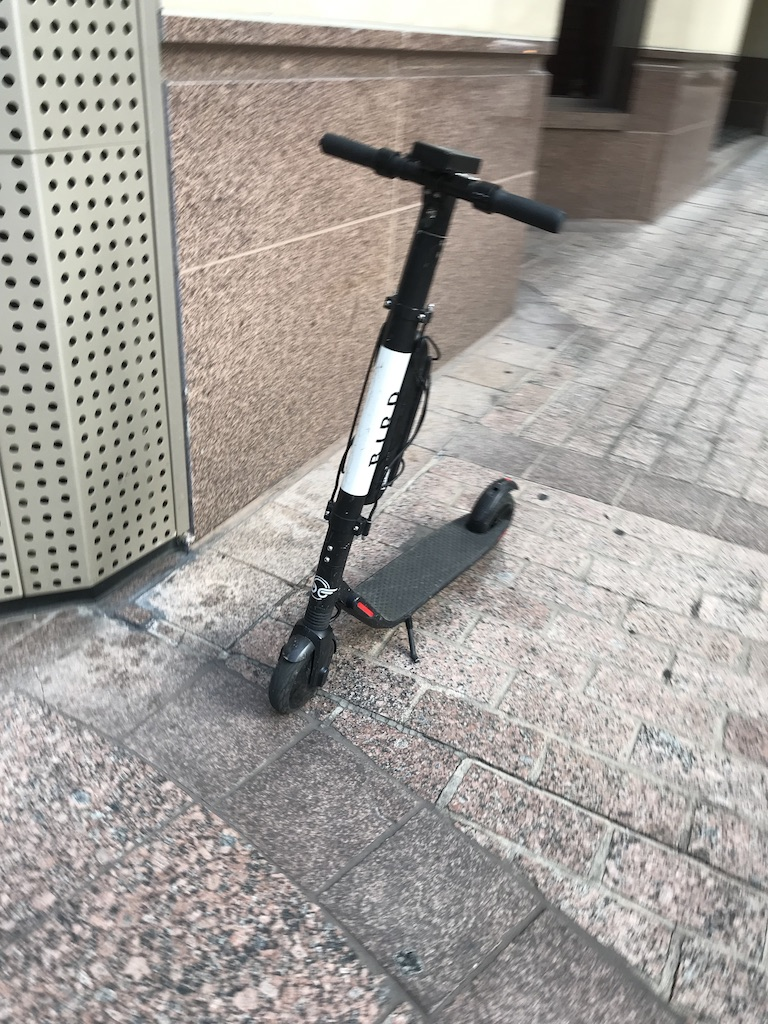scooter: (270, 130, 568, 718)
